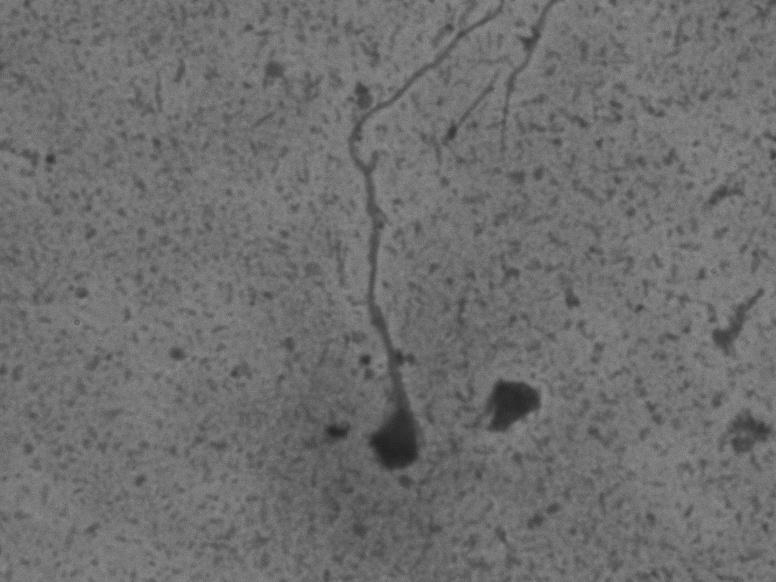Abnormal: (335, 7, 504, 482)
